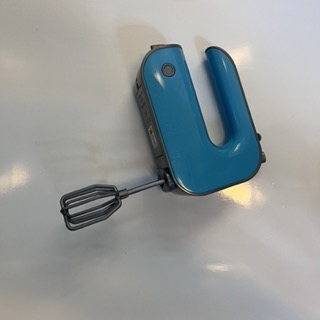mixer: (60, 45, 266, 232)
